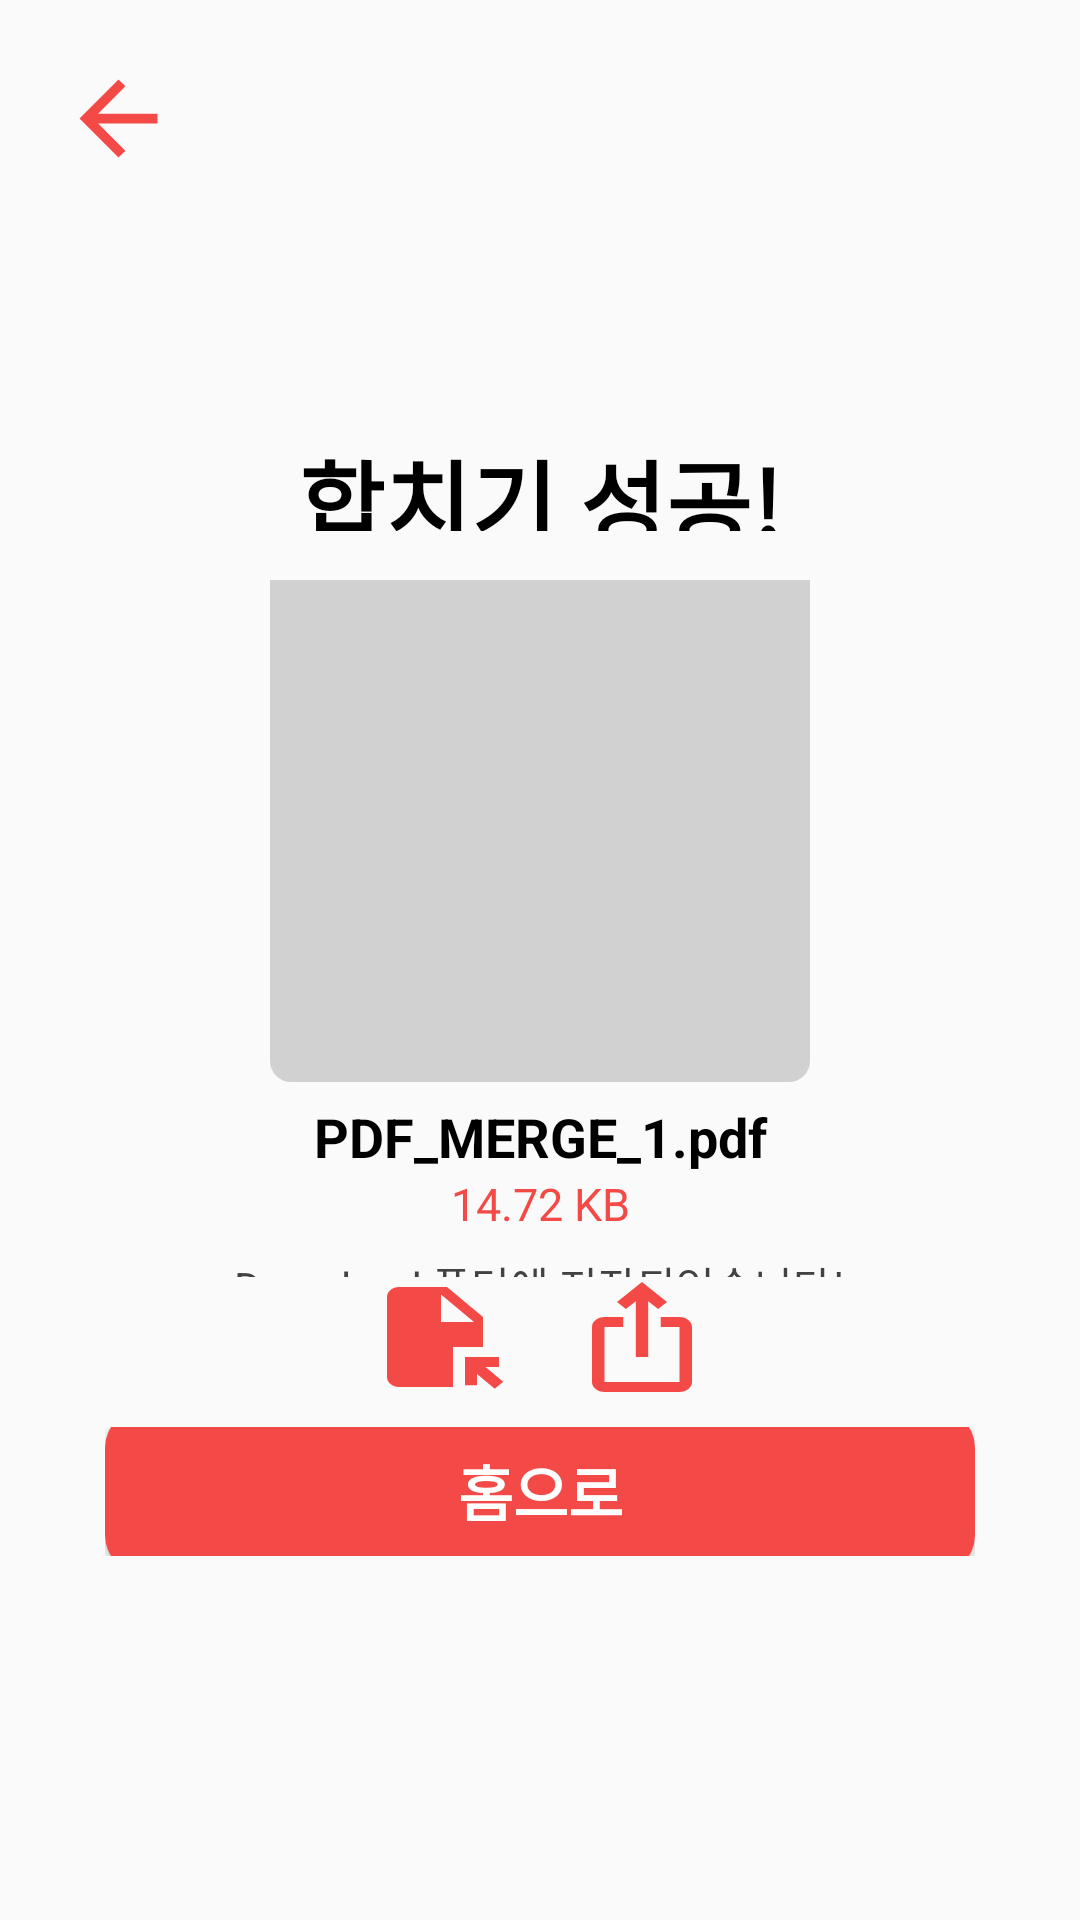

Point at icon controls on the screen. Image size 1080w x 1920h, points as (x=x, y=y).
arrow back: (x=118, y=118)
file open: (x=445, y=1338)
share: (x=642, y=1337)
